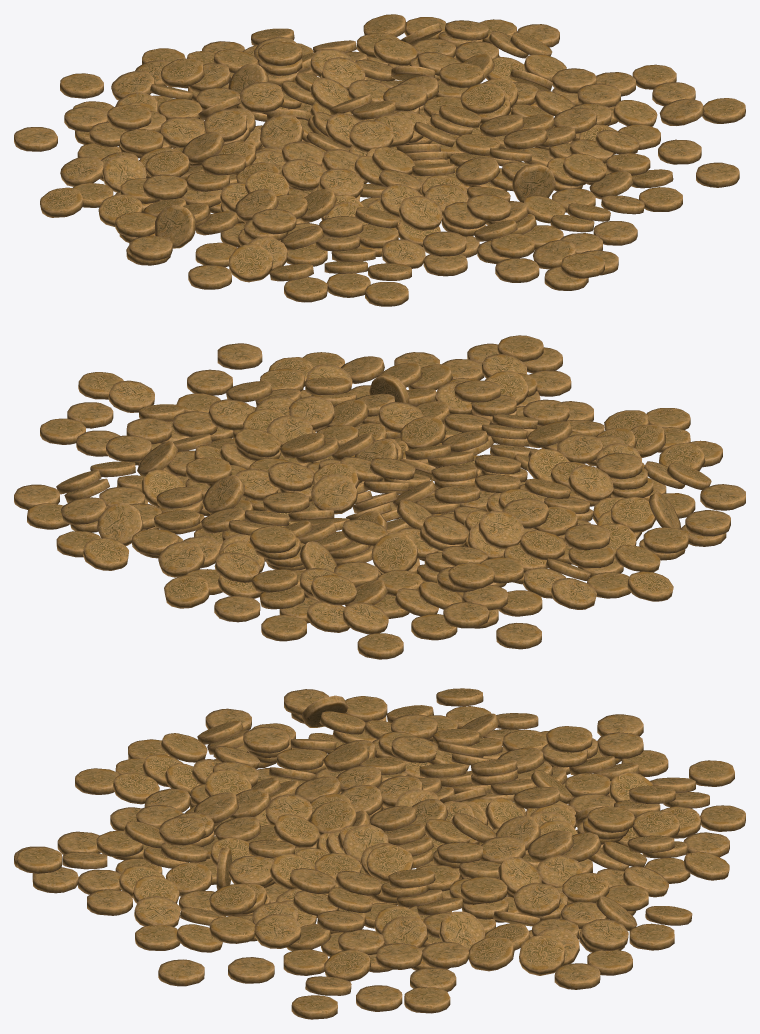
The model's file is coins_pile.fbx.
3 renders of one model, top to bottom at view 1: azimuth 30°, elevation 25°; view 2: azimuth 150°, elevation 25°; view 3: azimuth 270°, elevation 25°, orthographic. The views are drawn at different scales.
Parts seen in each view (by area): view 1: coin_pile; view 2: coin_pile; view 3: coin_pile.
Part boxes in pixels (bbox=[...]): coin_pile: bbox=[14, 14, 745, 306]; coin_pile: bbox=[14, 335, 745, 659]; coin_pile: bbox=[14, 688, 745, 1019].
Size of the model in its own units: 1.14 by 1.08 by 0.0717.
